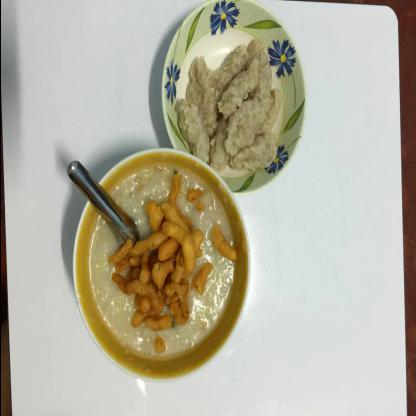Joke: (80, 158, 238, 372)
